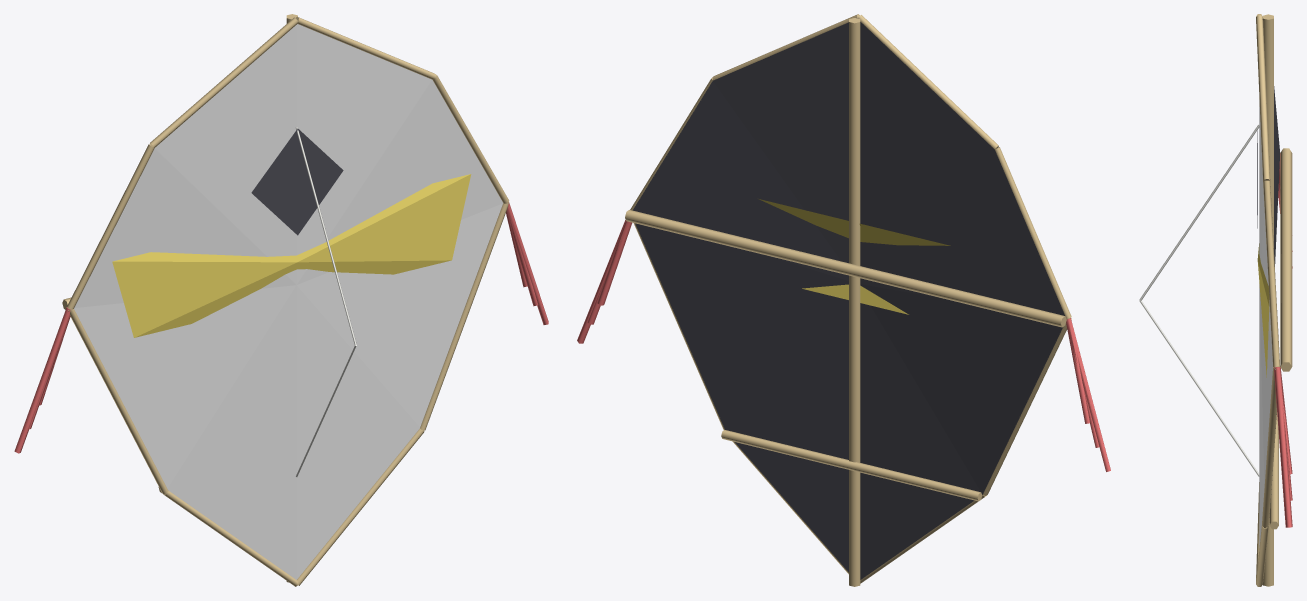
Rendered from kite_heavy.glb.
3 views of the same model, side by side, from view 1: azimuth 30°, elevation 25°; view 2: azimuth 150°, elevation 25°; view 3: azimuth 270°, elevation 25° (orthographic).
Parts seen in each view (by area): view 1: KiteHeavy; view 2: KiteHeavy; view 3: KiteHeavy.
Boxes of the visible parts, <box> form: KiteHeavy: <box>14,14,548,586</box>; KiteHeavy: <box>577,14,1110,586</box>; KiteHeavy: <box>1139,14,1292,586</box>.
Bounding box in the file's own units: 2.08 × 2.12 × 0.5151.
